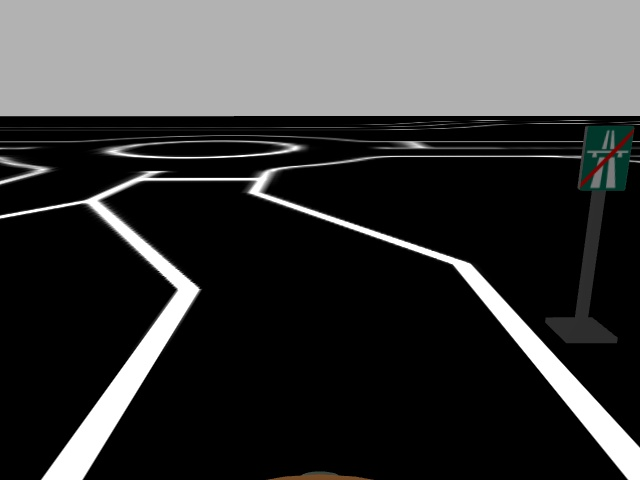leave_highway: (576, 124, 635, 193)
